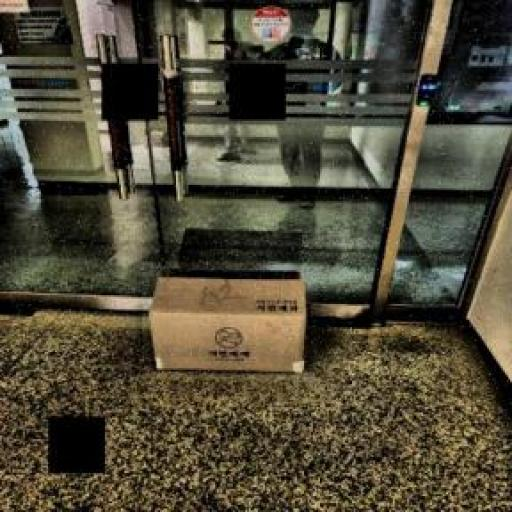box: (143, 262, 317, 380)
